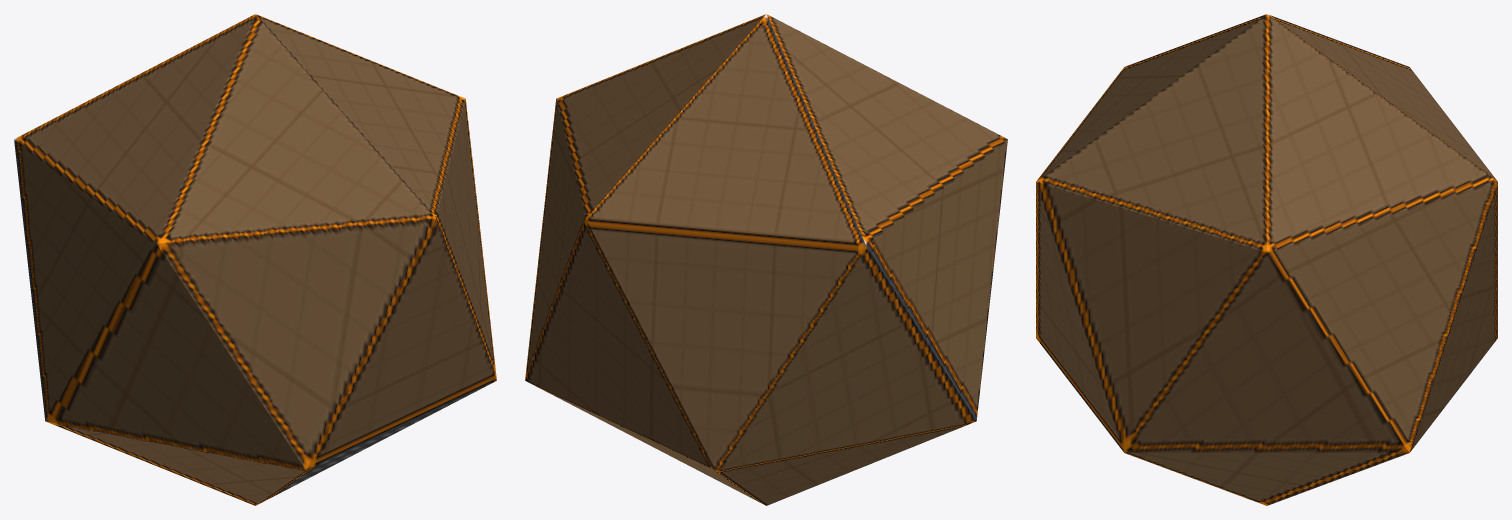
File: IdiotaAlakzat.obj
The picture shows the model from 3 angles, left to right: view 1: azimuth 30°, elevation 25°; view 2: azimuth 150°, elevation 25°; view 3: azimuth 270°, elevation 25°; orthographic projection.
Size of the model in its own units: 1.79 by 2 by 1.7.
